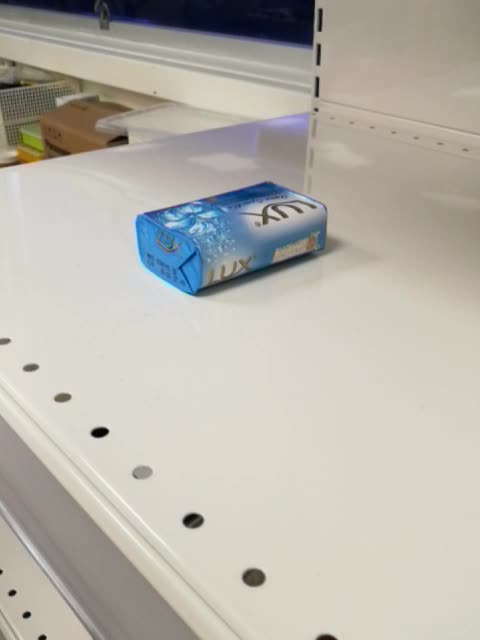soap: (133, 179, 328, 298)
